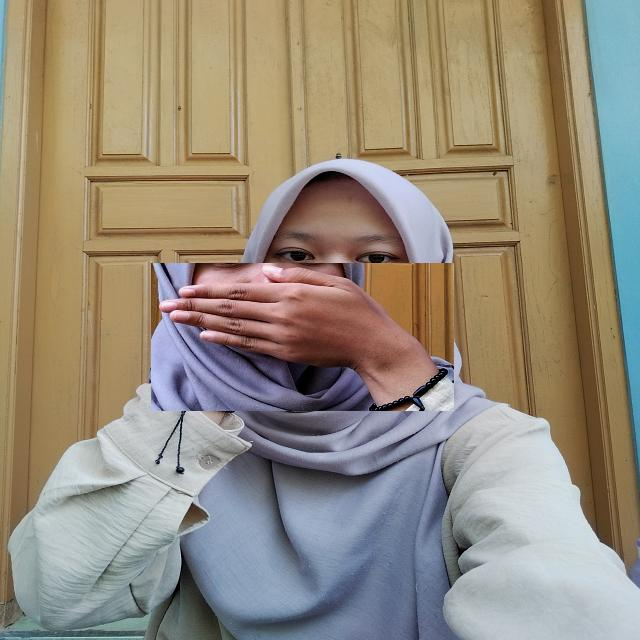buruk: (151, 263, 454, 411)
